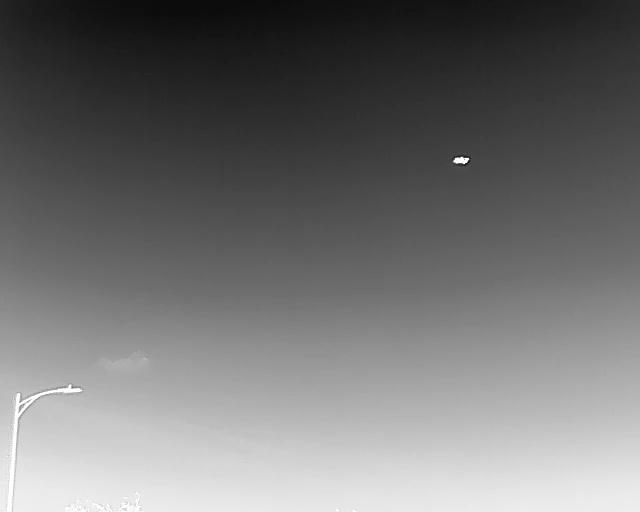fpv-drone: (451, 155, 470, 166)
